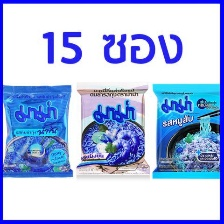snack: (70, 76, 153, 181), (147, 77, 224, 184), (2, 78, 75, 181)
